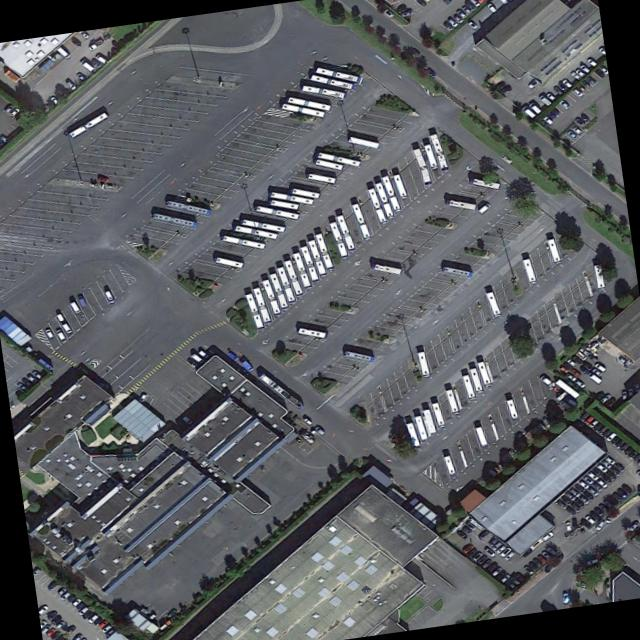large-vehicle: (254, 370, 306, 410), (66, 110, 108, 139), (288, 251, 313, 290), (313, 65, 361, 85), (296, 245, 321, 283), (311, 232, 335, 271), (280, 259, 304, 297), (266, 272, 290, 310), (308, 72, 356, 91), (364, 187, 388, 225), (242, 292, 266, 330), (426, 132, 448, 172), (333, 214, 356, 252), (304, 239, 327, 277), (349, 202, 372, 240), (379, 175, 402, 213), (259, 279, 282, 317), (372, 181, 394, 220), (326, 221, 349, 258), (150, 212, 197, 230), (164, 199, 211, 217), (274, 266, 296, 304), (250, 286, 272, 324), (284, 95, 332, 112), (411, 147, 432, 185), (300, 84, 346, 101), (314, 151, 360, 168), (219, 234, 265, 251), (252, 204, 299, 220), (232, 224, 278, 240), (239, 217, 285, 233), (279, 102, 324, 118), (268, 190, 312, 206), (553, 378, 580, 399), (428, 401, 447, 429), (475, 359, 494, 387), (483, 290, 502, 317), (459, 373, 477, 401), (467, 176, 500, 191), (443, 197, 476, 212), (341, 349, 374, 364), (212, 255, 245, 270), (466, 367, 485, 393), (443, 387, 461, 414), (419, 408, 437, 435), (403, 421, 421, 448), (543, 238, 561, 264), (421, 143, 439, 169), (390, 173, 408, 199), (519, 258, 537, 284), (312, 157, 343, 172), (369, 262, 402, 276), (347, 135, 380, 149), (412, 414, 429, 441), (441, 264, 473, 278), (305, 171, 337, 185), (266, 198, 298, 211), (288, 187, 320, 200), (415, 350, 430, 377), (296, 327, 327, 340), (591, 264, 605, 290), (503, 398, 519, 419), (472, 426, 487, 447), (441, 453, 455, 475)
small-vehicle: (77, 58, 96, 73), (86, 38, 105, 52), (520, 104, 537, 119), (586, 371, 603, 385), (55, 45, 72, 59), (475, 201, 491, 215), (526, 101, 541, 115), (239, 358, 254, 372), (67, 299, 81, 314), (537, 93, 551, 107), (102, 288, 115, 303), (189, 352, 205, 364), (603, 430, 617, 443), (53, 328, 66, 342), (578, 516, 592, 529), (63, 78, 77, 91), (483, 561, 497, 574), (528, 538, 543, 550), (573, 116, 587, 128), (589, 465, 603, 477), (444, 16, 458, 28), (68, 35, 82, 47), (512, 571, 526, 583), (572, 350, 587, 361), (575, 478, 590, 489), (461, 0, 476, 11), (604, 494, 619, 505), (554, 497, 567, 509), (599, 472, 612, 484), (484, 2, 497, 14), (586, 485, 599, 497), (86, 612, 99, 624), (63, 624, 76, 636), (626, 519, 639, 531), (567, 500, 580, 512), (563, 504, 576, 516), (614, 486, 627, 498), (583, 514, 596, 526), (493, 569, 506, 581), (89, 57, 102, 69), (498, 546, 511, 558), (463, 519, 476, 531), (459, 524, 472, 536), (454, 528, 467, 540), (557, 98, 571, 109), (564, 129, 578, 140), (593, 362, 607, 373), (538, 374, 552, 385), (572, 378, 586, 389), (450, 13, 464, 24), (584, 56, 598, 67), (567, 486, 581, 497), (597, 392, 611, 403), (454, 8, 468, 19), (24, 372, 38, 383), (558, 399, 572, 410), (563, 395, 577, 406), (540, 530, 554, 541), (497, 573, 511, 584), (312, 425, 326, 436), (441, 20, 453, 32), (572, 481, 584, 493), (560, 493, 572, 505), (604, 469, 616, 481), (60, 322, 72, 334), (587, 508, 599, 520), (8, 106, 20, 118), (584, 75, 597, 86), (578, 112, 591, 123), (578, 63, 591, 74), (560, 78, 573, 89), (526, 78, 539, 89), (581, 473, 594, 484), (590, 480, 603, 491), (594, 477, 607, 488), (100, 623, 113, 634), (81, 609, 94, 620), (196, 348, 209, 359), (45, 609, 58, 620), (544, 546, 557, 557), (507, 575, 520, 586), (489, 566, 502, 577), (95, 53, 108, 64), (474, 554, 487, 565), (502, 550, 515, 561), (482, 546, 495, 557), (479, 558, 492, 569), (590, 367, 604, 377), (625, 449, 639, 459), (554, 391, 568, 401), (542, 115, 554, 126), (569, 367, 581, 378), (599, 458, 611, 469), (608, 465, 620, 476), (600, 427, 612, 438), (460, 4, 472, 15), (104, 627, 116, 638), (31, 369, 43, 380), (186, 357, 198, 368), (46, 580, 58, 591), (43, 327, 54, 339), (581, 489, 593, 500), (535, 553, 547, 564), (597, 501, 608, 513), (591, 505, 603, 516), (1, 103, 13, 114), (76, 295, 87, 307), (490, 540, 502, 551), (301, 416, 313, 427), (486, 537, 498, 548), (563, 371, 576, 381), (568, 70, 581, 80), (603, 455, 616, 465), (226, 351, 239, 361), (577, 494, 590, 504), (620, 483, 633, 493), (74, 71, 87, 81), (381, 8, 394, 18), (586, 557, 600, 566), (556, 81, 567, 92), (621, 445, 632, 456), (424, 66, 435, 77), (593, 520, 604, 531), (573, 497, 584, 508), (504, 579, 515, 590), (571, 87, 583, 97), (571, 125, 583, 135), (544, 91, 556, 101), (595, 462, 607, 472), (586, 470, 598, 480), (564, 491, 576, 501), (591, 421, 603, 431), (466, 19, 478, 29), (92, 616, 104, 626), (96, 619, 108, 629), (19, 376, 31, 386), (16, 382, 28, 392), (58, 591, 70, 601), (69, 597, 81, 607), (77, 606, 89, 616), (560, 360, 572, 370), (408, 46, 420, 56), (540, 550, 552, 560), (477, 530, 489, 540), (595, 425, 608, 434), (574, 67, 585, 77), (551, 85, 562, 95), (578, 364, 589, 374), (614, 462, 625, 472), (578, 411, 589, 421), (587, 418, 598, 428), (609, 435, 620, 445), (617, 442, 628, 452), (630, 452, 640, 463), (74, 601, 85, 611), (181, 415, 192, 425), (548, 105, 559, 115), (521, 547, 531, 558), (526, 560, 537, 570), (521, 564, 532, 574), (611, 491, 622, 501), (602, 499, 613, 509), (495, 544, 506, 554), (565, 357, 577, 366), (48, 95, 60, 104), (560, 591, 569, 603), (0, 132, 9, 144), (618, 356, 628, 366), (545, 108, 555, 118), (54, 312, 64, 322), (575, 83, 586, 92), (583, 415, 594, 424), (55, 587, 66, 596), (543, 562, 552, 573), (581, 359, 592, 368), (45, 627, 56, 636), (40, 623, 51, 632), (594, 68, 605, 77), (400, 9, 412, 17), (580, 80, 590, 89), (613, 439, 623, 448), (541, 418, 551, 427), (531, 557, 540, 567), (587, 353, 598, 361), (70, 633, 82, 640), (55, 620, 64, 629), (137, 393, 146, 402), (558, 365, 568, 373), (604, 514, 612, 524), (414, 0, 425, 7), (626, 388, 633, 399), (564, 521, 571, 532), (468, 0, 480, 6), (537, 423, 546, 431), (570, 517, 577, 527), (53, 634, 64, 640), (620, 390, 626, 401), (635, 483, 640, 496), (633, 383, 639, 392), (634, 469, 640, 477), (498, 0, 508, 4), (0, 139, 5, 147), (636, 459, 640, 467)
